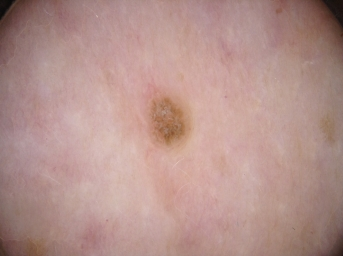seborrheic keratosis: (131, 62, 190, 154)
